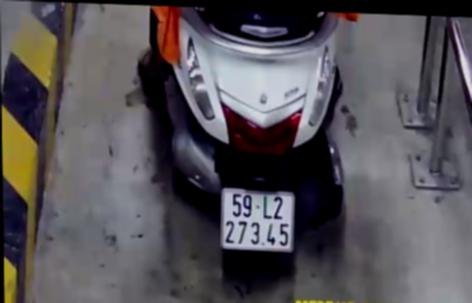License_Plate: (217, 181, 303, 259)
